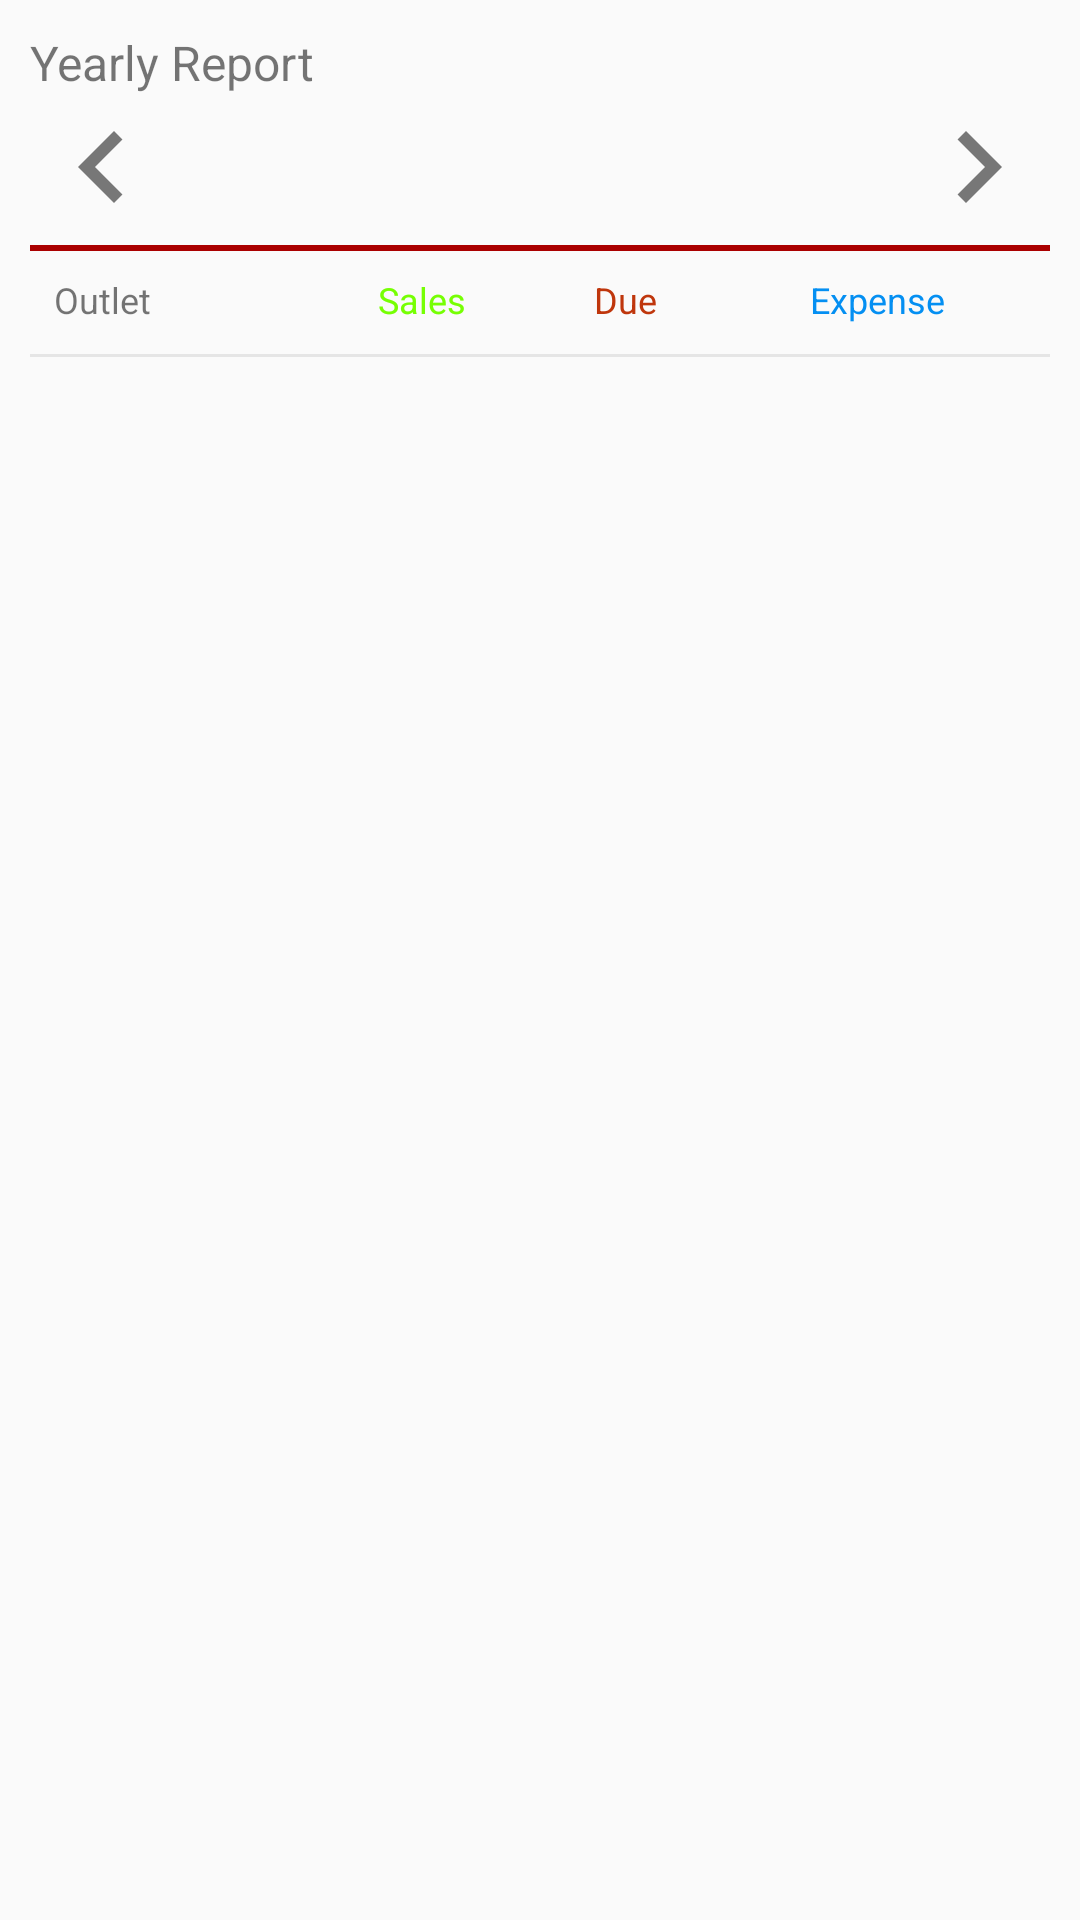

Named icons in this screenshot (1080 × 1920) and their bounding boxes, {"x1": x1, "y1": y1, "x2": x2, "y2": y2}:
next: {"x1": 957, "y1": 131, "x2": 1002, "y2": 203}
previous: {"x1": 78, "y1": 131, "x2": 123, "y2": 203}
